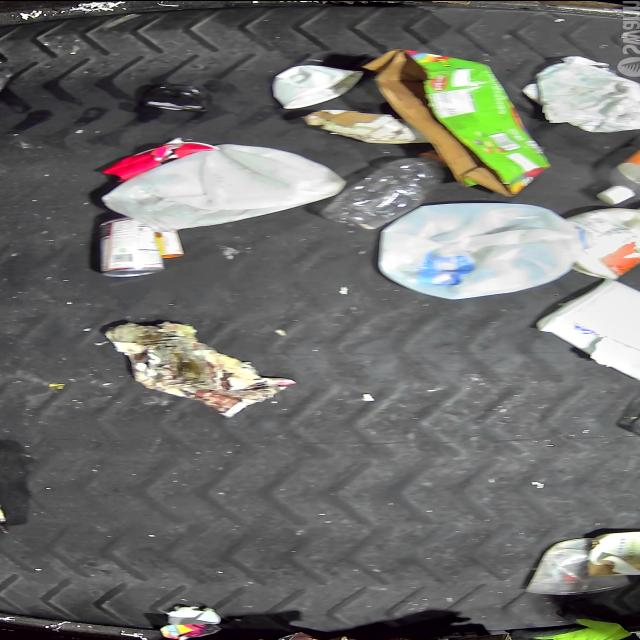can: (96, 216, 164, 276)
milk_jug: (104, 140, 344, 228), (375, 200, 583, 298), (524, 54, 640, 130)
plastic_bottle: (318, 154, 442, 228)
